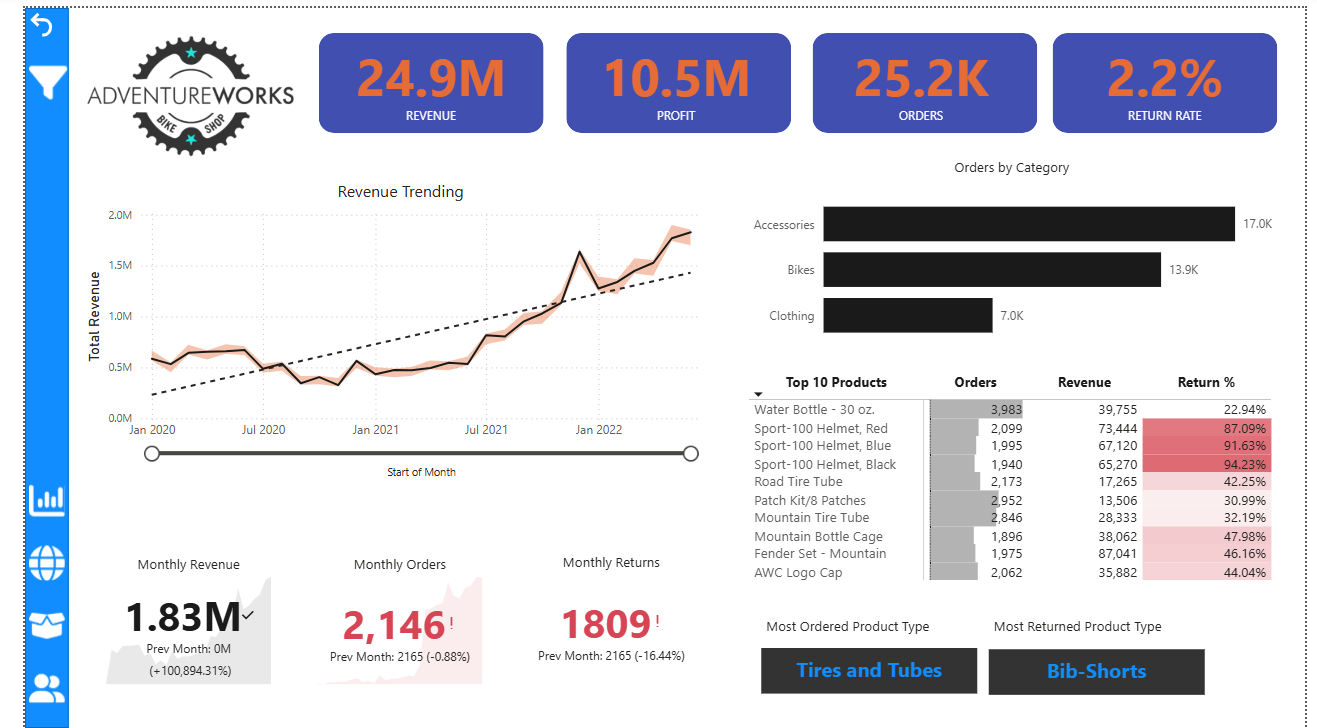

What the dashboard file says about the page in this screenshot:
{"tool":"powerbi","page":{"name":"Exec Dashboard","canvas":[1280,720],"ordinal":0},"visuals":[{"type":"image","title":"AW Logo","box":[35.2,12.5,262.5,151.1],"z":0},{"type":"shape","box":[540.8,25.6,225,100],"z":0,"group":"g2"},{"type":"actionButton","box":[0,461.2,43.8,62.5],"z":0,"group":"g4"},{"type":"shape","title":"Left Nav Background ","box":[0,0,43.8,720],"z":1000},{"type":"shape","box":[787.7,25.6,225,100],"z":1000,"group":"g2"},{"type":"actionButton","box":[0,523.7,43.8,62.5],"z":1000,"group":"g4"},{"type":"group","id":"g1","title":"KPIs","box":[274.9,0,997.7,150.5],"z":2000},{"type":"group","id":"g2","title":"KPI Backgrounds","box":[293.9,25.6,958.8,100],"z":2000,"group":"g1"},{"type":"shape","box":[293.9,25.6,225,100],"z":2000,"group":"g2"},{"type":"actionButton","box":[0,586.2,43.8,62.5],"z":2000,"group":"g4"},{"type":"card","fields":{"Values":["Measure Table.Total Revenue"]},"box":[274.9,0,262.6,150],"z":3000,"group":"g3"},{"type":"shape","box":[1027.7,25.6,225,100],"z":3000,"group":"g2"},{"type":"lineChart","title":"Revenue Trending ","fields":{"Y":["Measure Table.Total Revenue"],"Category":["Calendar Lookup.Start of Month"]},"box":[56.3,171.2,638.7,301],"z":3000},{"type":"actionButton","box":[0,648.7,43.8,62.5],"z":3000,"group":"g4"},{"type":"card","fields":{"Values":["Measure Table.Total Profit"]},"box":[519.7,0,262.6,150],"z":4000,"group":"g3"},{"type":"kpi","title":"Monthly Revenue ","fields":{"Indicator":["Measure Table.Total Revenue"],"TrendLine":["Calendar Lookup.Start of Month"],"Goal":["Measure Table.Previous Moth Returns"]},"box":[76,545.8,175,135.2],"z":4000},{"type":"card","fields":{"Values":["Measure Table.Total Orders"]},"box":[764.5,0,262.6,150],"z":5000,"group":"g3"},{"type":"kpi","title":"Monthly Orders","fields":{"TrendLine":["Calendar Lookup.Start of Month"],"Indicator":["Measure Table.Total Orders"],"Goal":["Measure Table.Previous Moth Orders"]},"box":[288,545.8,175,135.2],"z":5000},{"type":"card","fields":{"Values":["Measure Table.Return Rate"]},"box":[1009.3,0,262.6,150],"z":6000,"group":"g3"},{"type":"clusteredBarChart","title":"Orders by Category","fields":{"Category":["Product Categories Lookup.CategoryName"],"Y":["Measure Table.Total Orders"]},"box":[718.8,150,536.2,200],"z":6000},{"type":"group","id":"g3","title":"KPI Values","box":[274.9,0,996.9,150],"z":6001,"group":"g1"},{"type":"kpi","title":"Monthly Returns","fields":{"TrendLine":["Calendar Lookup.Start of Month"],"Goal":["Measure Table.Previous Moth Orders"],"Indicator":["Measure Table.Total Returns"]},"box":[499.1,545.3,175.4,135.6],"z":7000},{"type":"pivotTable","fields":{"Rows":["Product Lookup.ProductName"],"Values":["Measure Table.Total Orders","Measure Table.Total Revenue","Measure Table.Return Rate"]},"box":[718.8,360,535,223.8],"z":8000},{"type":"card","fields":{"Values":["Min(Product Subcategories Lookup.SubcategoryName)"]},"box":[736.3,640.1,216,45.9],"z":9000},{"type":"textbox","box":[736.3,603.4,190.7,35.6],"z":10000},{"type":"textbox","box":[963.7,603.4,190.7,35.6],"z":11000},{"type":"card","fields":{"Values":["Min(Product Subcategories Lookup.SubcategoryName)"]},"box":[963.5,640.7,215.9,45.5],"z":12000},{"type":"actionButton","box":[0,0,35.2,33],"z":13000},{"type":"group","id":"g4","title":"Navigation buttons ","box":[0,461.2,43.8,250],"z":14000},{"type":"actionButton","box":[0,47.5,46.2,55],"z":15000}]}

Visuals, with their boxes on the page's 1280x720 design canvas (x1, y1, x2, y2). These are canvas units, not pixel positions in the 1317x728 screenshot, which may show the page scaled, cropped or inside an application window:
"AW Logo" image: <box>35,12,298,164</box>
shape: <box>541,26,766,126</box>
actionButton: <box>0,461,44,524</box>
"Left Nav Background " shape: <box>0,0,44,720</box>
shape: <box>788,26,1013,126</box>
actionButton: <box>0,524,44,586</box>
"KPIs" group: <box>275,0,1273,150</box>
"KPI Backgrounds" group: <box>294,26,1253,126</box>
shape: <box>294,26,519,126</box>
actionButton: <box>0,586,44,649</box>
card - Measure Table.Total Revenue: <box>275,0,538,150</box>
shape: <box>1028,26,1253,126</box>
"Revenue Trending " lineChart: <box>56,171,695,472</box>
actionButton: <box>0,649,44,711</box>
card - Measure Table.Total Profit: <box>520,0,782,150</box>
"Monthly Revenue " kpi: <box>76,546,251,681</box>
card - Measure Table.Total Orders: <box>764,0,1027,150</box>
"Monthly Orders" kpi: <box>288,546,463,681</box>
card - Measure Table.Return Rate: <box>1009,0,1272,150</box>
"Orders by Category" clusteredBarChart: <box>719,150,1255,350</box>
"KPI Values" group: <box>275,0,1272,150</box>
"Monthly Returns" kpi: <box>499,545,674,681</box>
pivotTable - Product Lookup.ProductName x Measure Table.Total Orders: <box>719,360,1254,584</box>
card - Min(Product Subcategories Lookup.SubcategoryName): <box>736,640,952,686</box>
textbox: <box>736,603,927,639</box>
textbox: <box>964,603,1154,639</box>
card - Min(Product Subcategories Lookup.SubcategoryName): <box>964,641,1179,686</box>
actionButton: <box>0,0,35,33</box>
"Navigation buttons " group: <box>0,461,44,711</box>
actionButton: <box>0,48,46,102</box>
